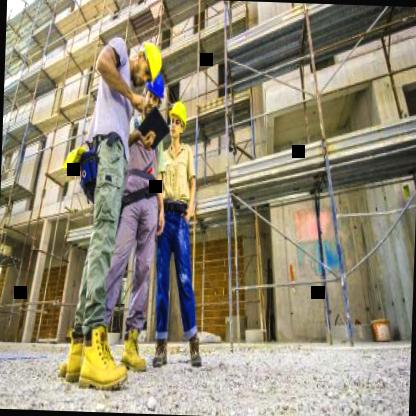helmet: (133, 38, 162, 90), (141, 69, 166, 116), (166, 98, 189, 145)
